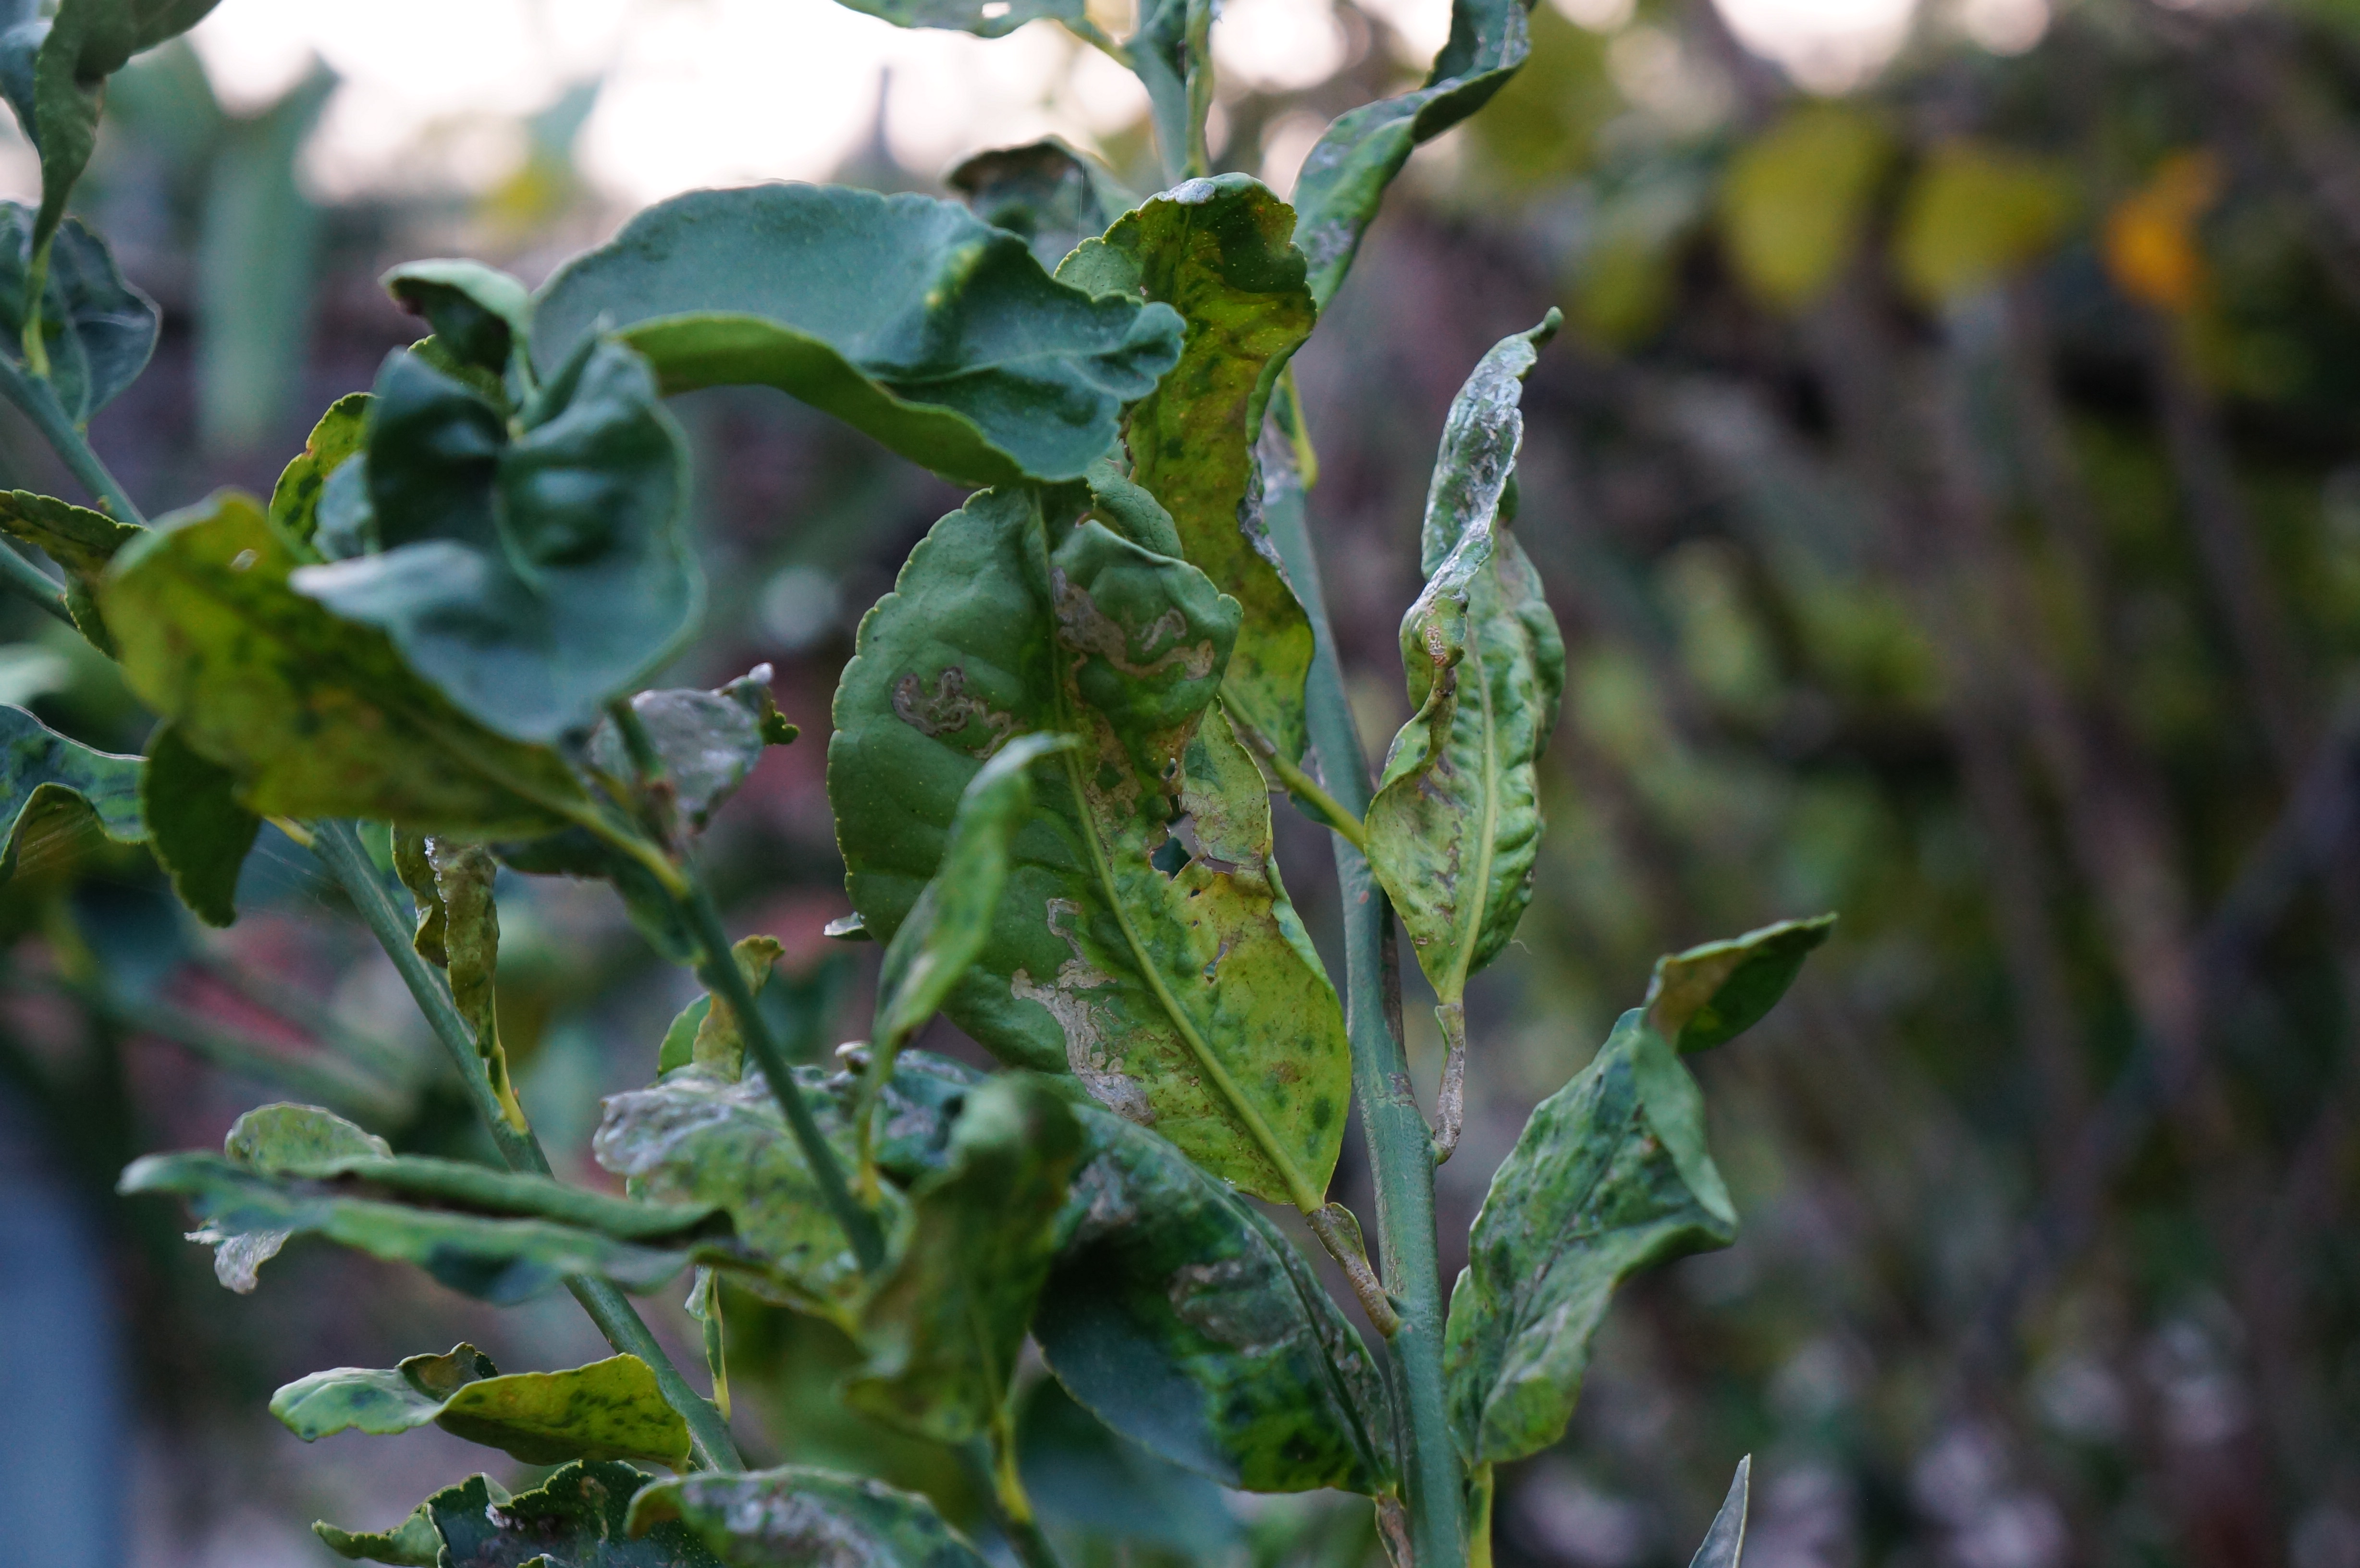damage: (1435, 898, 1851, 1494), (1358, 297, 1604, 1015), (1041, 556, 1228, 880), (1001, 889, 1170, 1150), (880, 660, 1055, 773)
